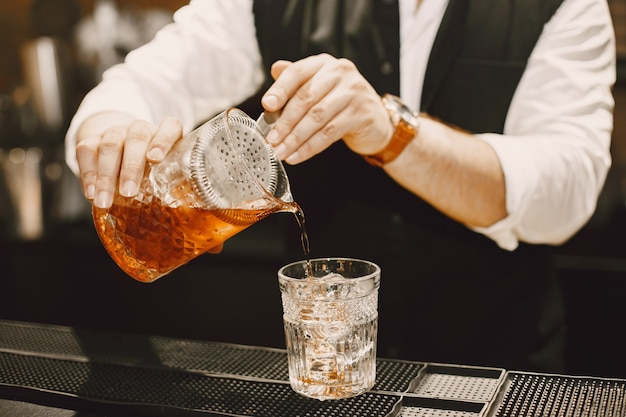alcohol: (87, 107, 302, 286), (276, 255, 381, 402)
